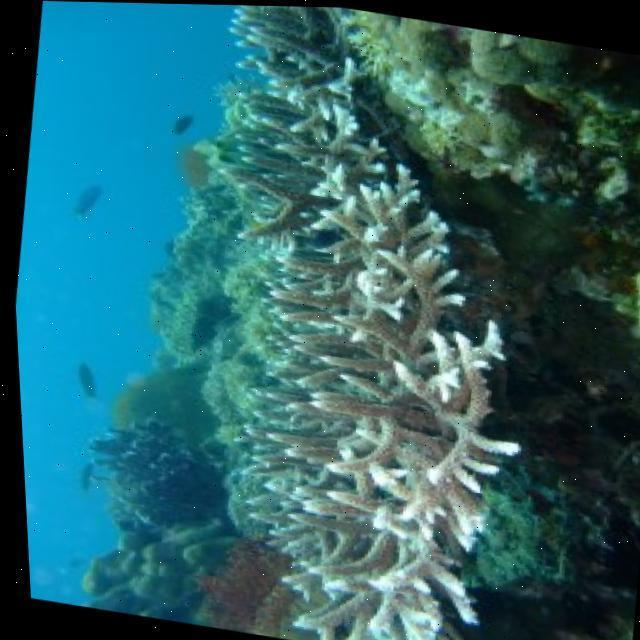Bleached Coral: (134, 2, 595, 640)
